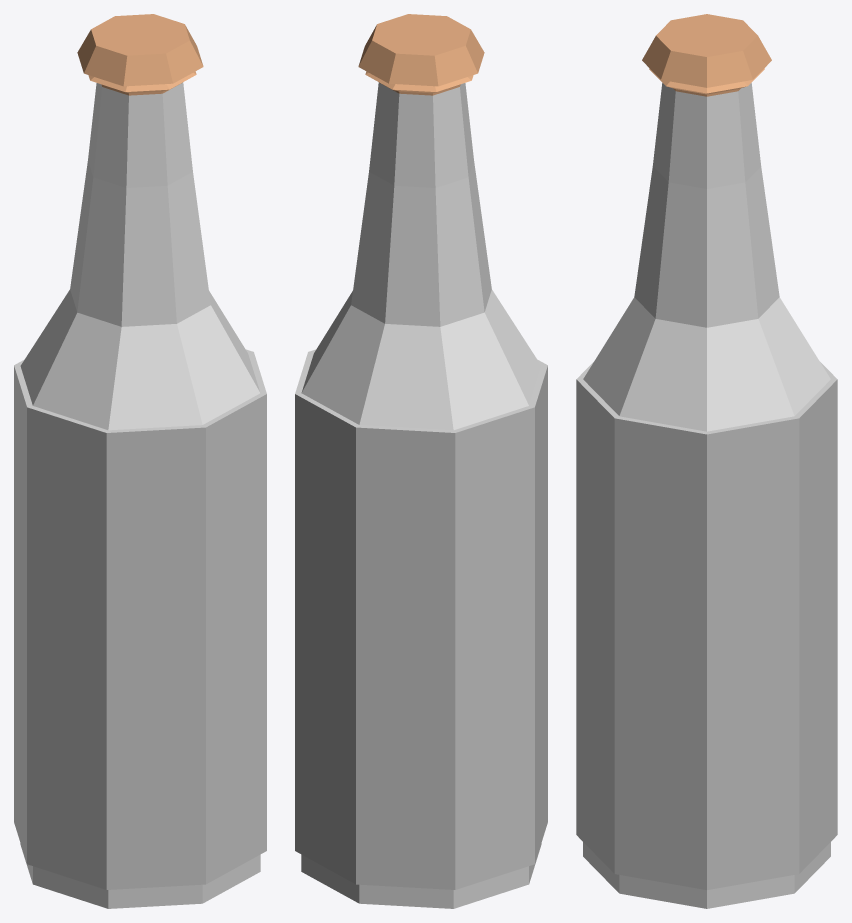
File: Botella_5.fbx
The picture shows the model from 3 angles, left to right: view 1: azimuth 30°, elevation 25°; view 2: azimuth 150°, elevation 25°; view 3: azimuth 270°, elevation 25°; orthographic projection.
Visible parts, largest first — view 1: Botella_5; view 2: Botella_5; view 3: Botella_5.
Boxes of the visible parts, left/top/right/bottom form: Botella_5: left=14, top=14, right=266, bottom=908; Botella_5: left=295, top=14, right=547, bottom=908; Botella_5: left=576, top=14, right=837, bottom=908.
Bounding box in the file's own units: 45.16 × 157 × 45.16.
